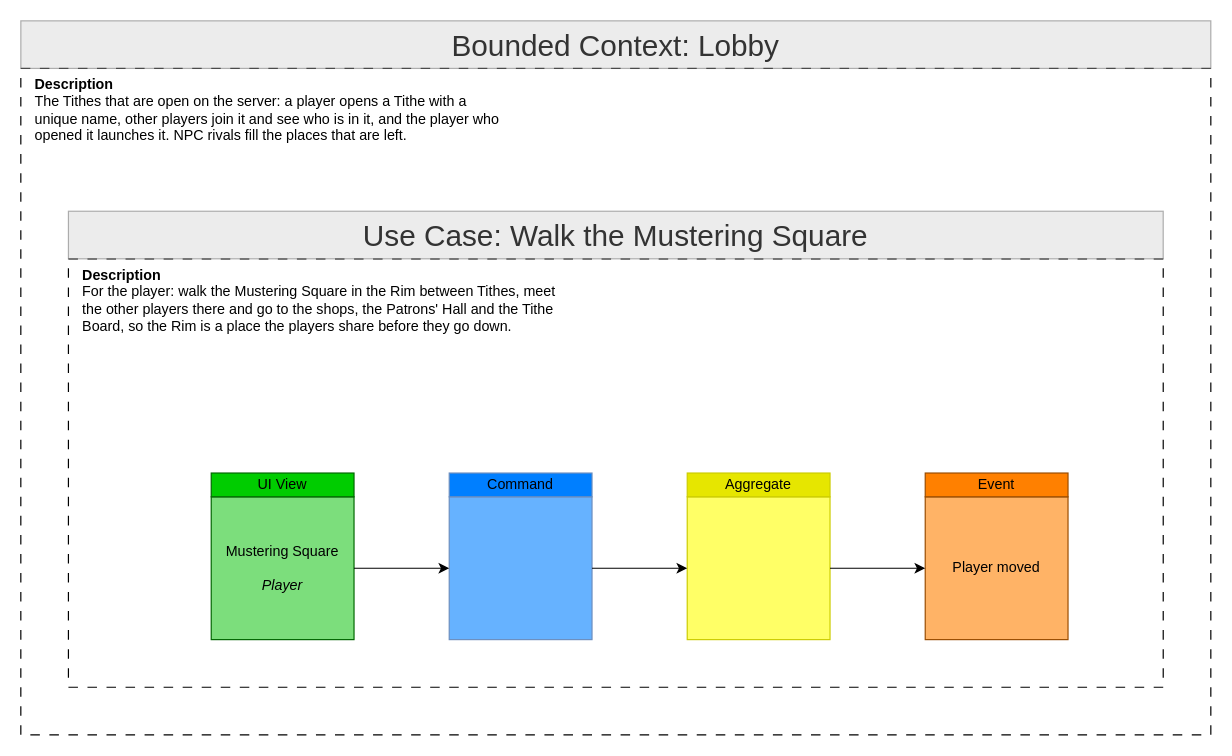
The diagram is 1232 pixels wide and 756 high, and some of its shapes have lost their labels. Here are the shapes that lost their labels. From the top down, the box of each, then its label:
(448, 496, 592, 640): Walk the square Direction
(686, 496, 830, 640): Square Players (many) · User name · Character · Position
